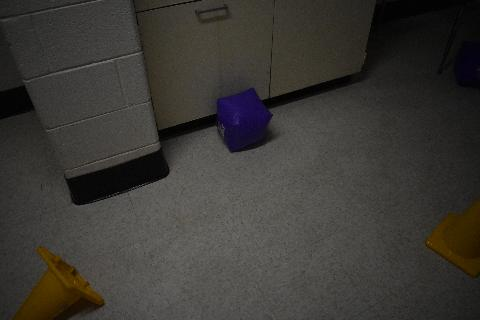cone: (0, 244, 106, 320), (424, 195, 480, 278)
cube: (216, 86, 273, 152)
